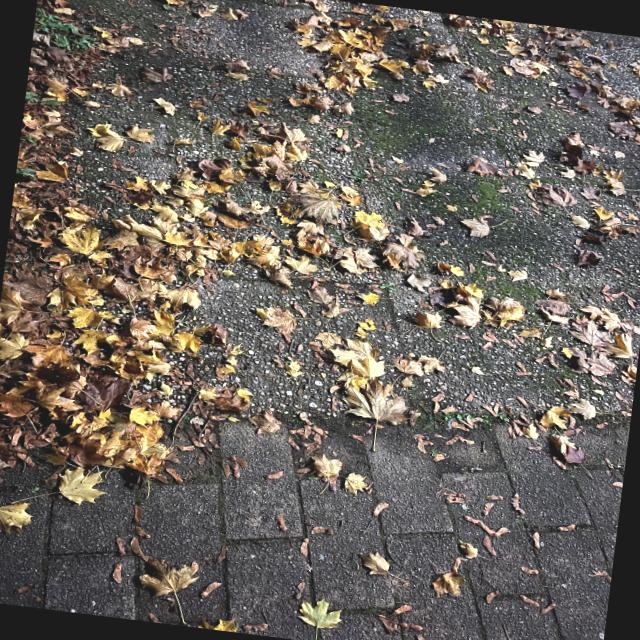leaves: (0, 184, 201, 498), (410, 261, 639, 463), (190, 109, 400, 292)
pavement: (0, 0, 639, 639)
weed: (30, 1, 100, 59)
